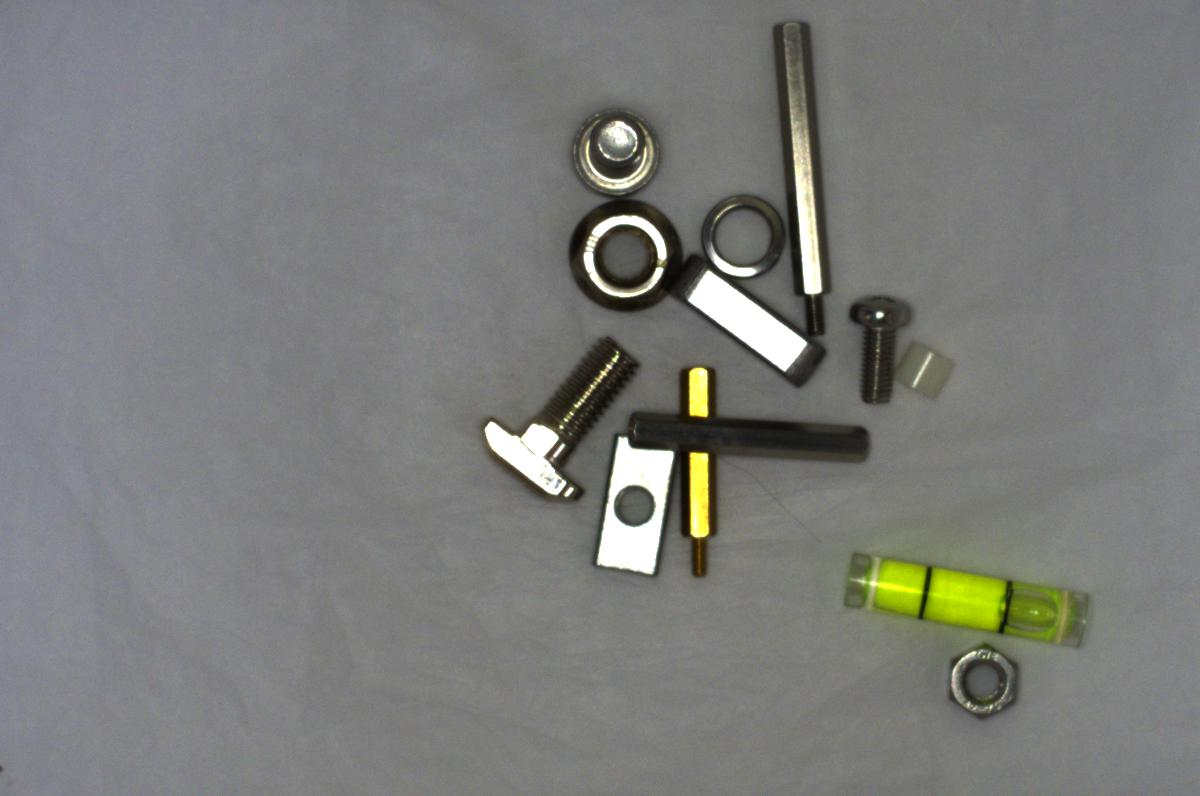Double hexagonal column: (619, 406, 880, 471)
Flange nut: (560, 196, 691, 313)
Hexagon nut: (939, 635, 1034, 724)
Hexagon pillar: (671, 364, 747, 585)
Hexagon screw: (557, 100, 673, 200)
Hexagonal steel column: (755, 18, 846, 355)
Horizontal bubble: (815, 544, 1096, 650)
Keybar: (675, 264, 832, 395)
Plastic cushion pillar: (894, 339, 960, 404)
Rectangular nut: (575, 435, 678, 581)
Round head screw: (850, 282, 910, 408)
Spring washer: (698, 186, 787, 278)
T-shaped screw: (473, 319, 656, 510)
